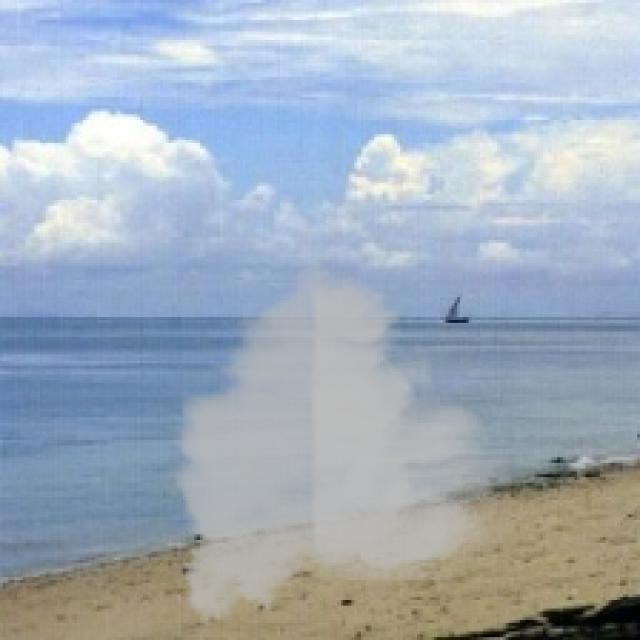smoke: (160, 252, 514, 637)
